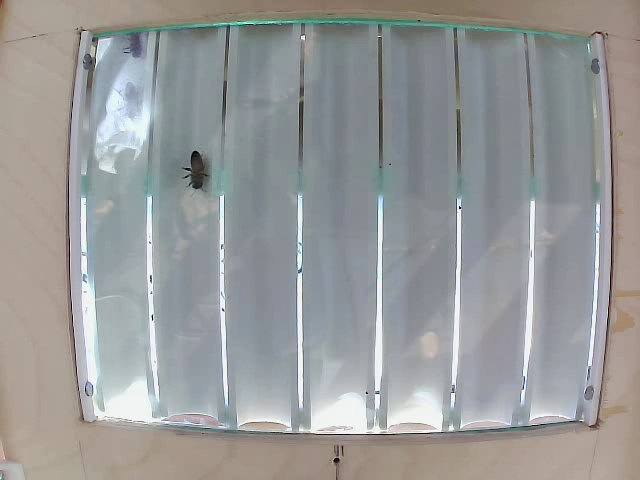bee: (181, 147, 211, 191), (116, 21, 147, 59)
